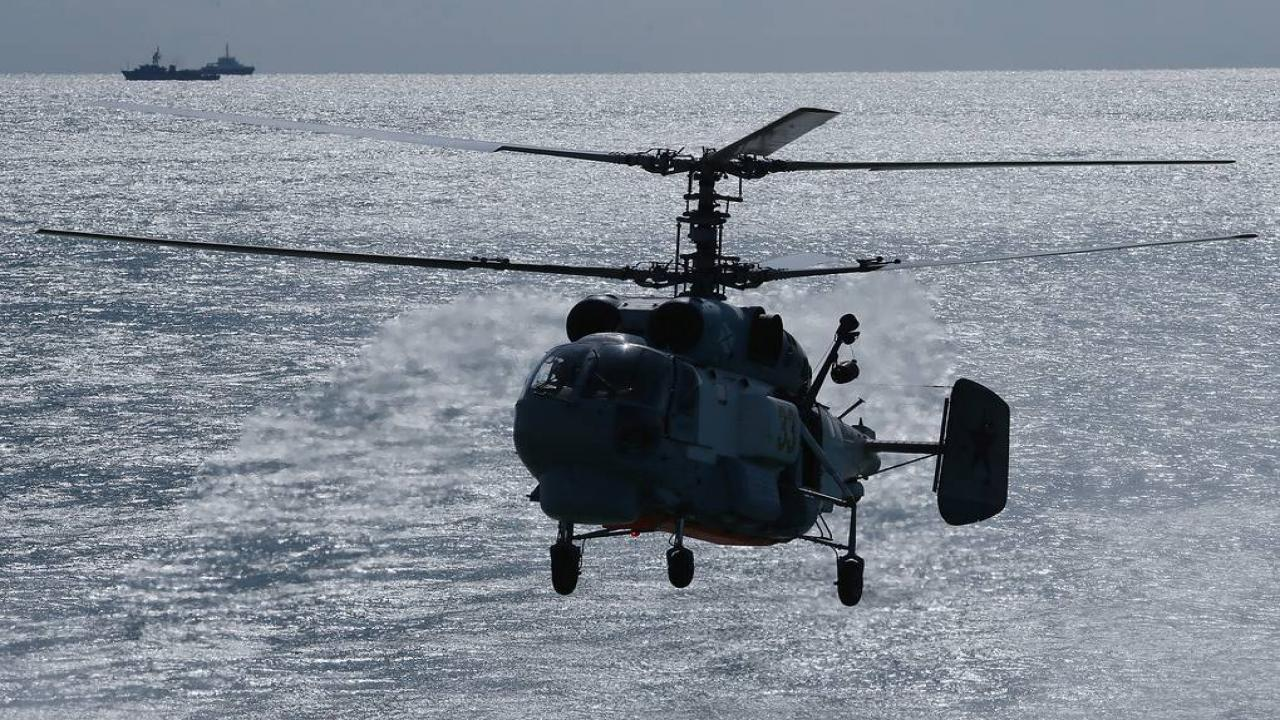Helicopter: (29, 99, 1280, 612)
